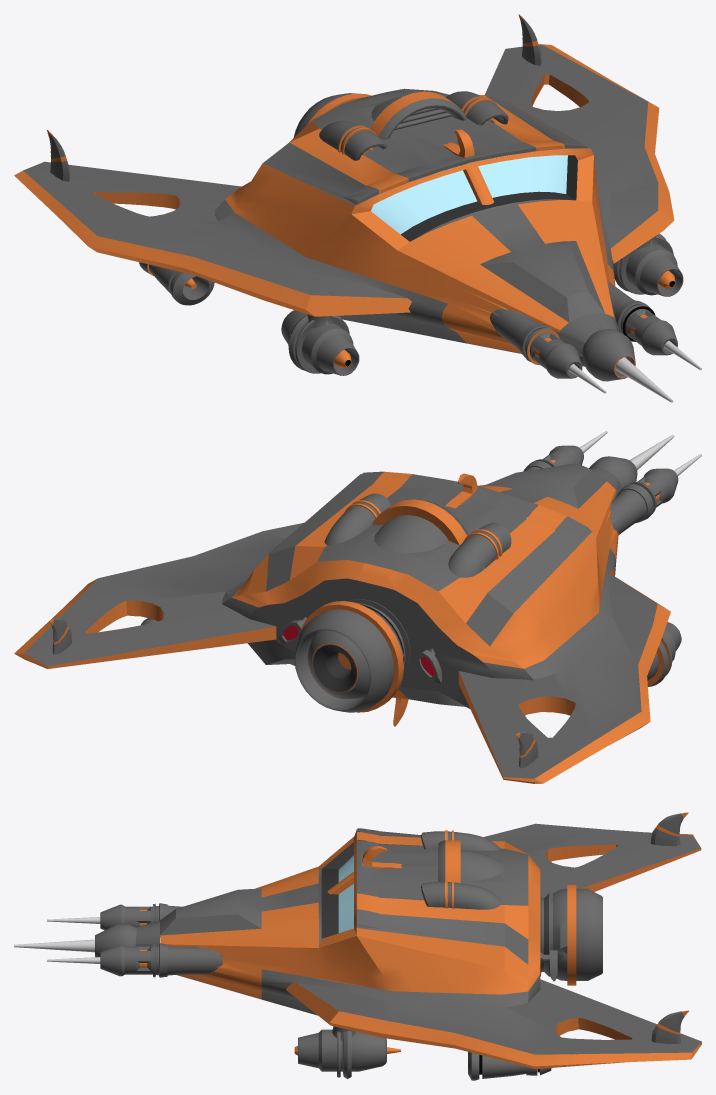
3 renders of one model, top to bottom at view 1: azimuth 30°, elevation 25°; view 2: azimuth 150°, elevation 25°; view 3: azimuth 270°, elevation 25°, orthographic. The views are drawn at different scales.
Parts seen in each view (by area): view 1: Cube.003; view 2: Cube.003; view 3: Cube.003.
Boxes of the visible parts, x1,y1,x2,y2 form: Cube.003: (14,14,701,402); Cube.003: (14,431,701,783); Cube.003: (14,812,701,1080).
Bounding box in the file's own units: 3.63 × 1.25 × 4.42.
